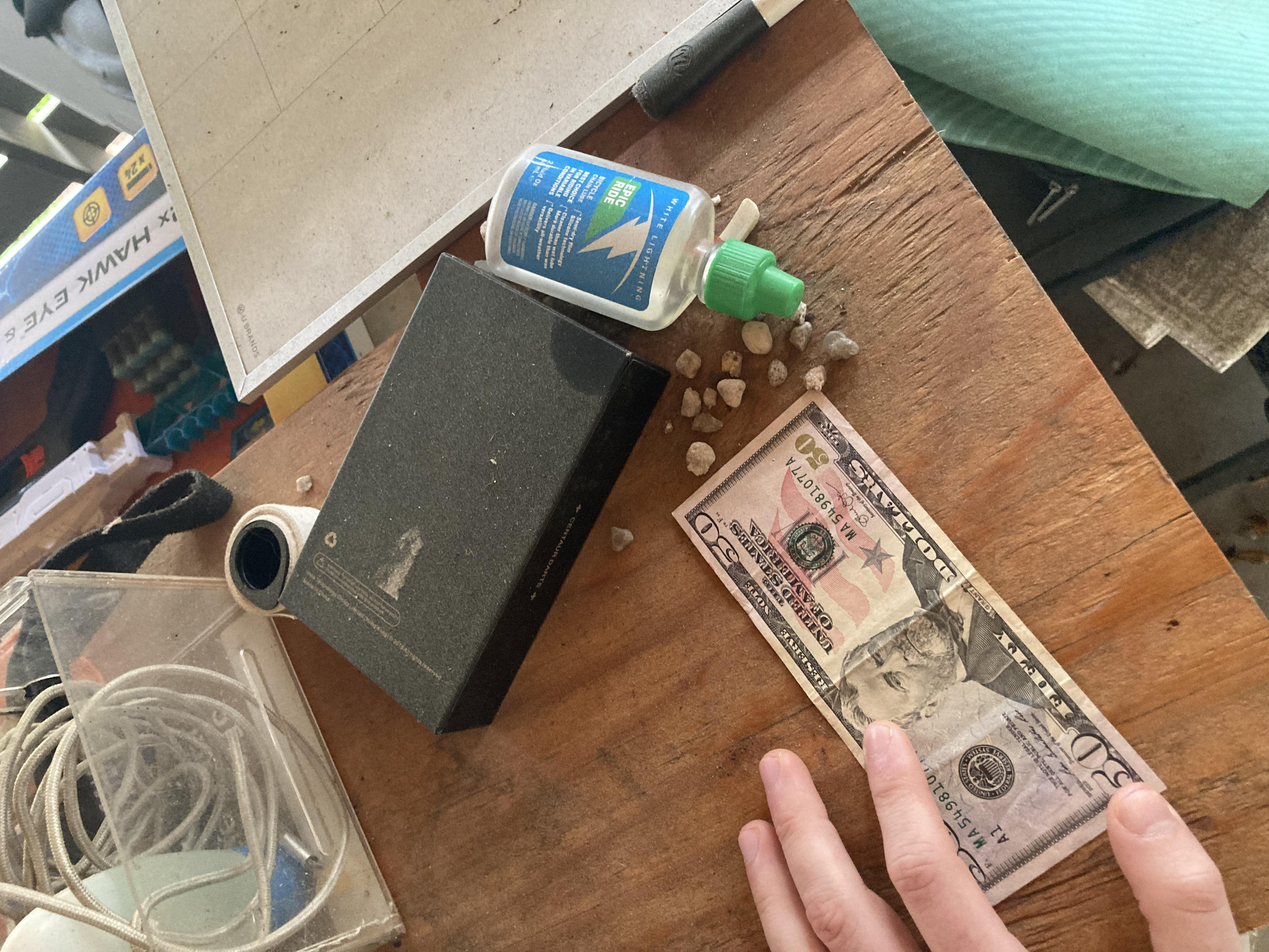fifty-front: (46, 505, 758, 875)
